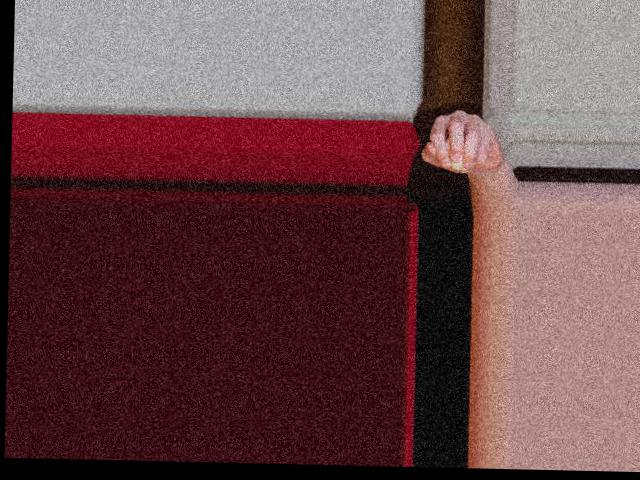egg: (440, 136, 476, 170)
